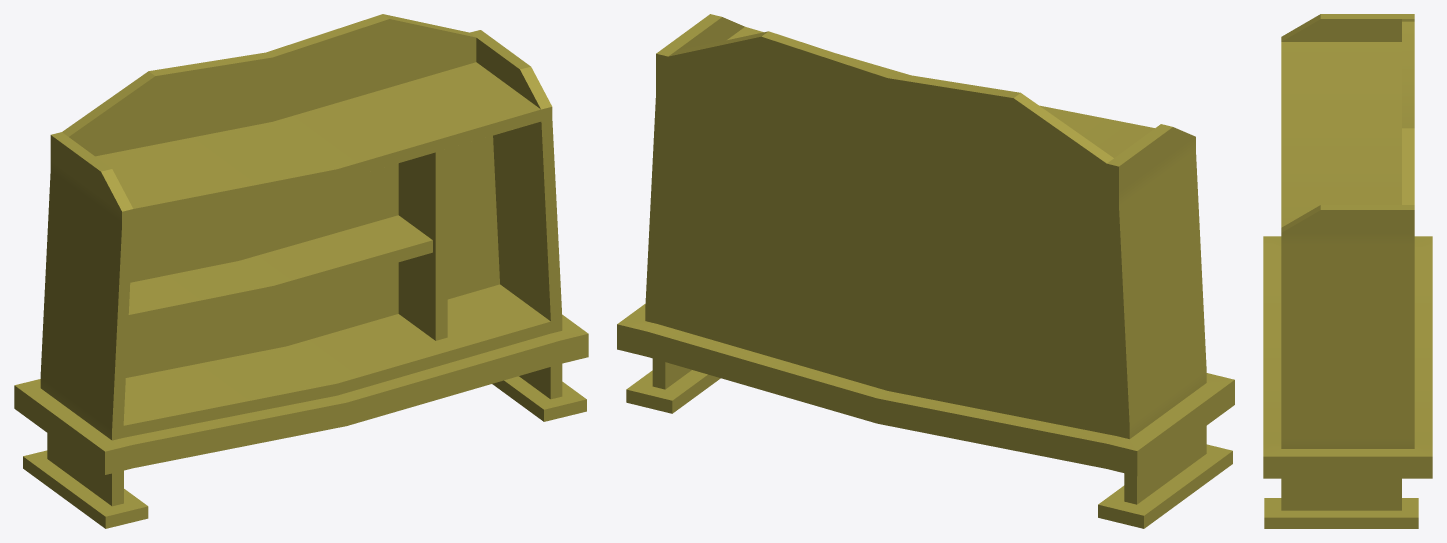
Rendered from BookShelf_Type_01.fbx.
3 renders of one model, left to right at view 1: azimuth 30°, elevation 25°; view 2: azimuth 150°, elevation 25°; view 3: azimuth 270°, elevation 25°, orthographic. The views are drawn at different scales.
Visible parts, largest first — view 1: BookShelf_Main_01, Wood_Hor_01, Wood_Vert_01; view 2: BookShelf_Main_01; view 3: BookShelf_Main_01.
Boxes of the visible parts, x1=… form: BookShelf_Main_01: x1=14, y1=14, x2=588, y2=528; Wood_Hor_01: x1=128, y1=215, x2=432, y2=327; Wood_Vert_01: x1=398, y1=149, x2=447, y2=340; BookShelf_Main_01: x1=617, y1=14, x2=1234, y2=528; BookShelf_Main_01: x1=1263, y1=14, x2=1432, y2=528.
Bounding box in the file's own units: 306 × 223 × 99.58.
